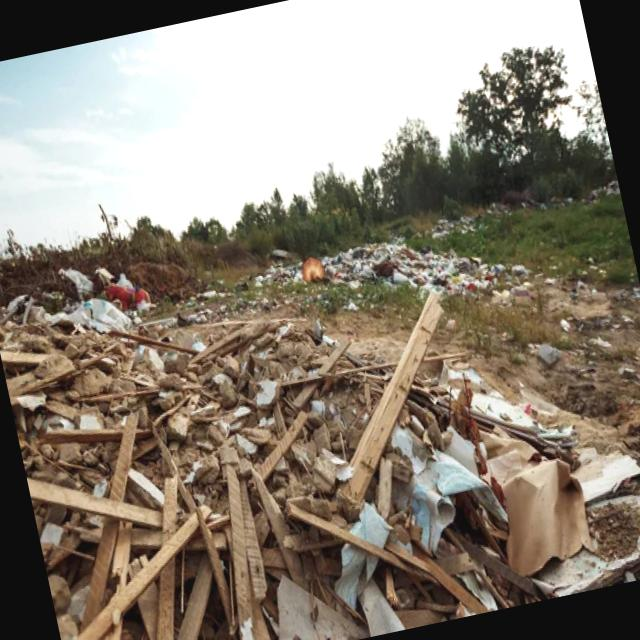garbage: (0, 185, 549, 640)
